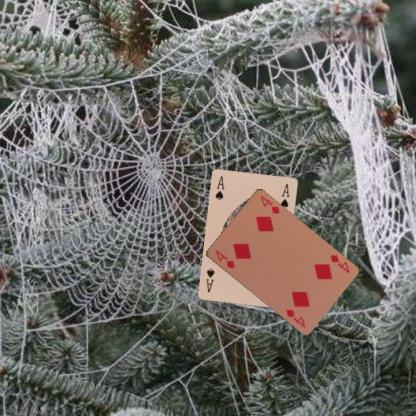4d: (212, 247, 235, 270), (328, 252, 350, 274)
As: (213, 173, 226, 202)
